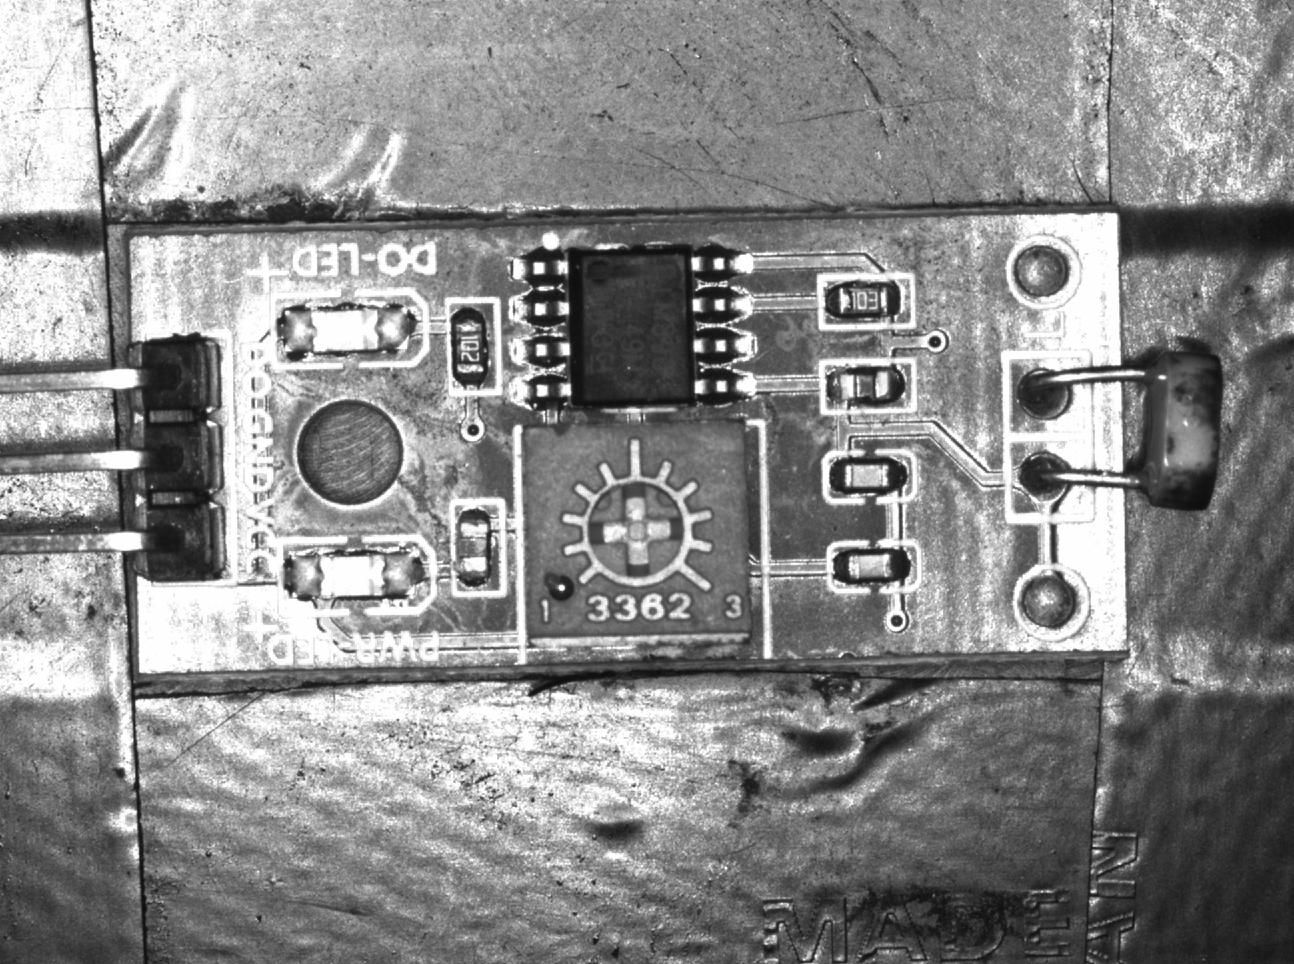miss: (453, 498, 508, 600), (816, 361, 915, 413)
ok: (819, 275, 916, 330), (444, 299, 498, 395), (829, 539, 921, 591), (824, 453, 915, 503)
